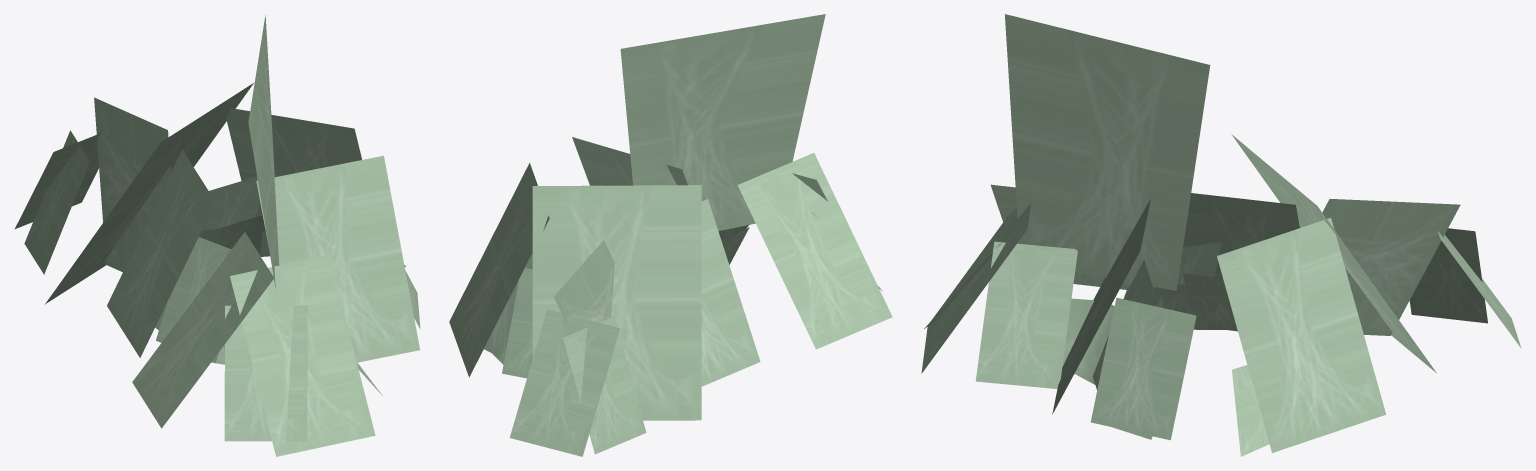
Rendered from 6001_Item_zhizhuwang_2.FBX.
The picture shows the model from 3 angles, left to right: view 1: azimuth 30°, elevation 25°; view 2: azimuth 150°, elevation 25°; view 3: azimuth 270°, elevation 25°; orthographic projection. The views are drawn at different scales.
Parts seen in each view (by area): view 1: 6001_Item_zhizhuwang_2; view 2: 6001_Item_zhizhuwang_2; view 3: 6001_Item_zhizhuwang_2.
Boxes of the visible parts, x1,y1,x2,y2 form: 6001_Item_zhizhuwang_2: (15, 15, 420, 456); 6001_Item_zhizhuwang_2: (449, 14, 892, 456); 6001_Item_zhizhuwang_2: (921, 14, 1521, 456).
Bounding box in the file's own units: 493 × 420 × 704.
